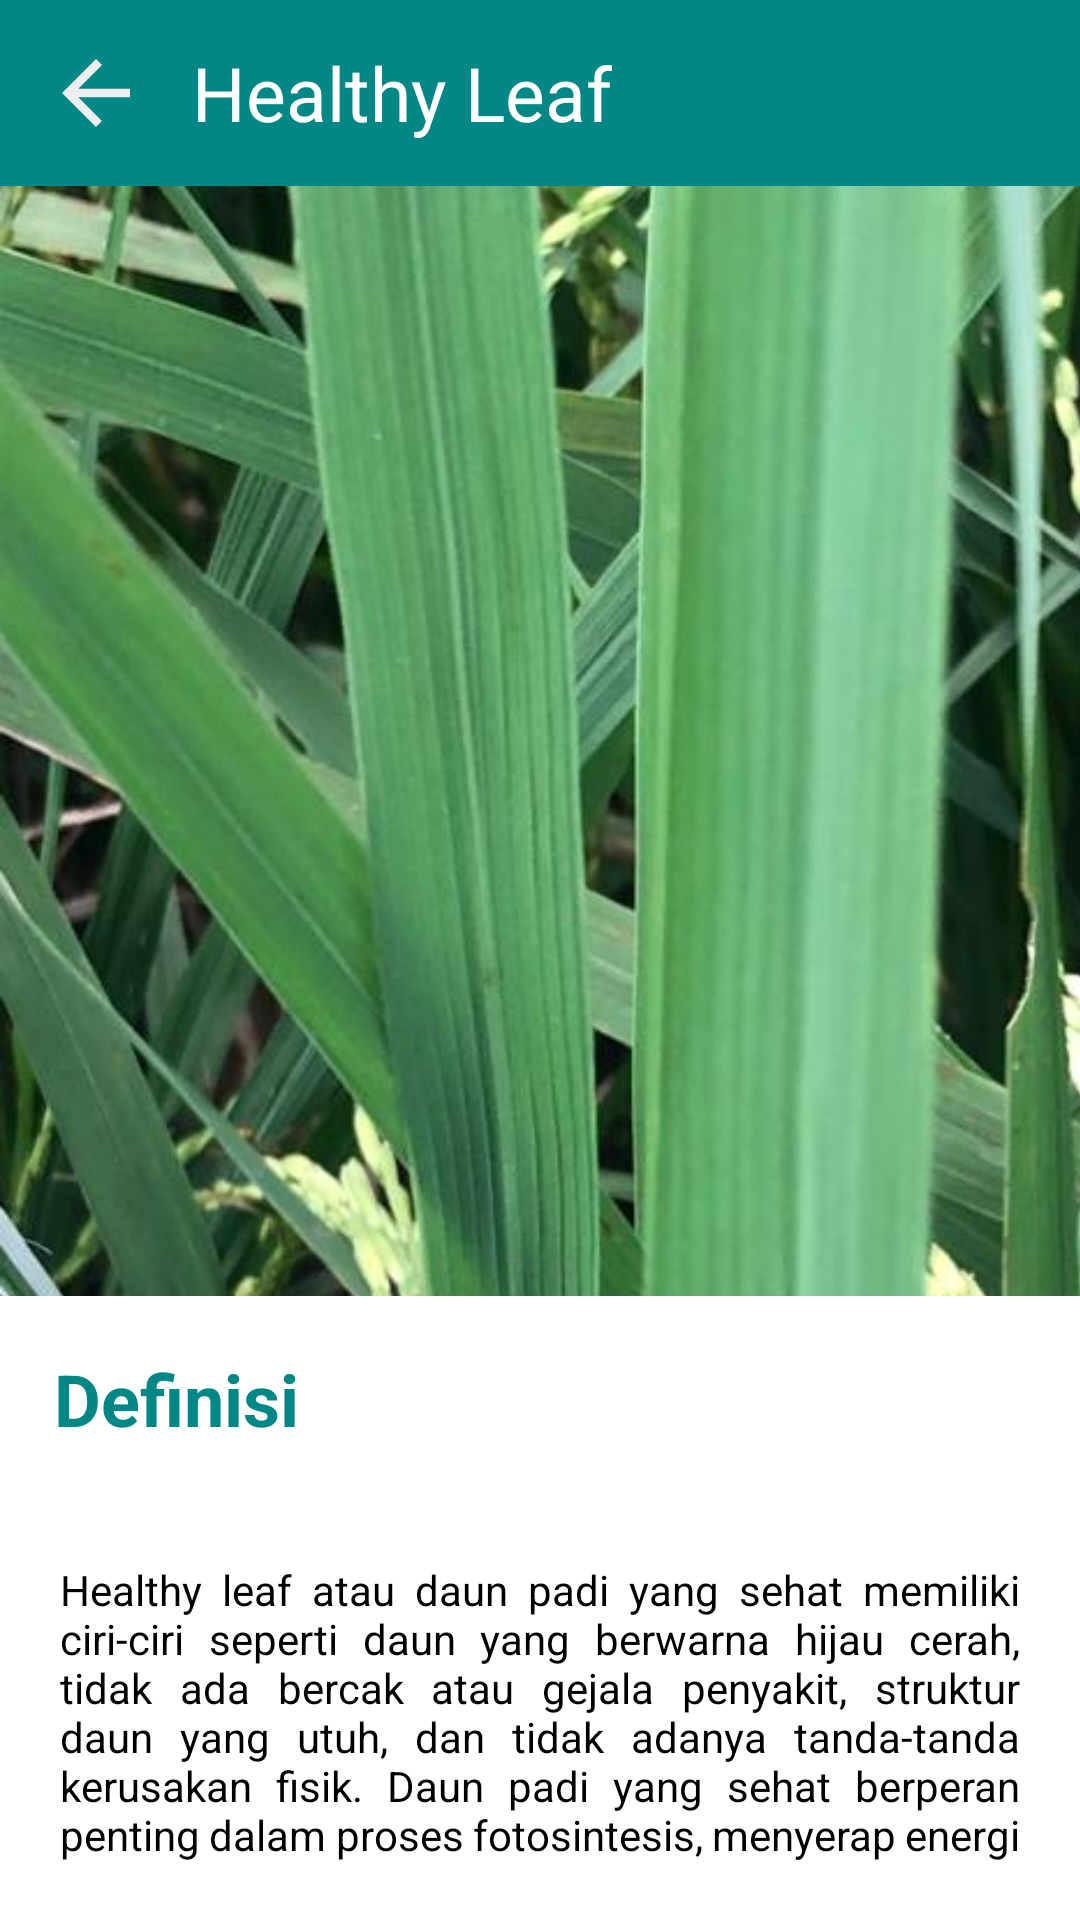

Named icons in this screenshot (1080*1920) and their centers, [x,y]:
back: [96,93]
